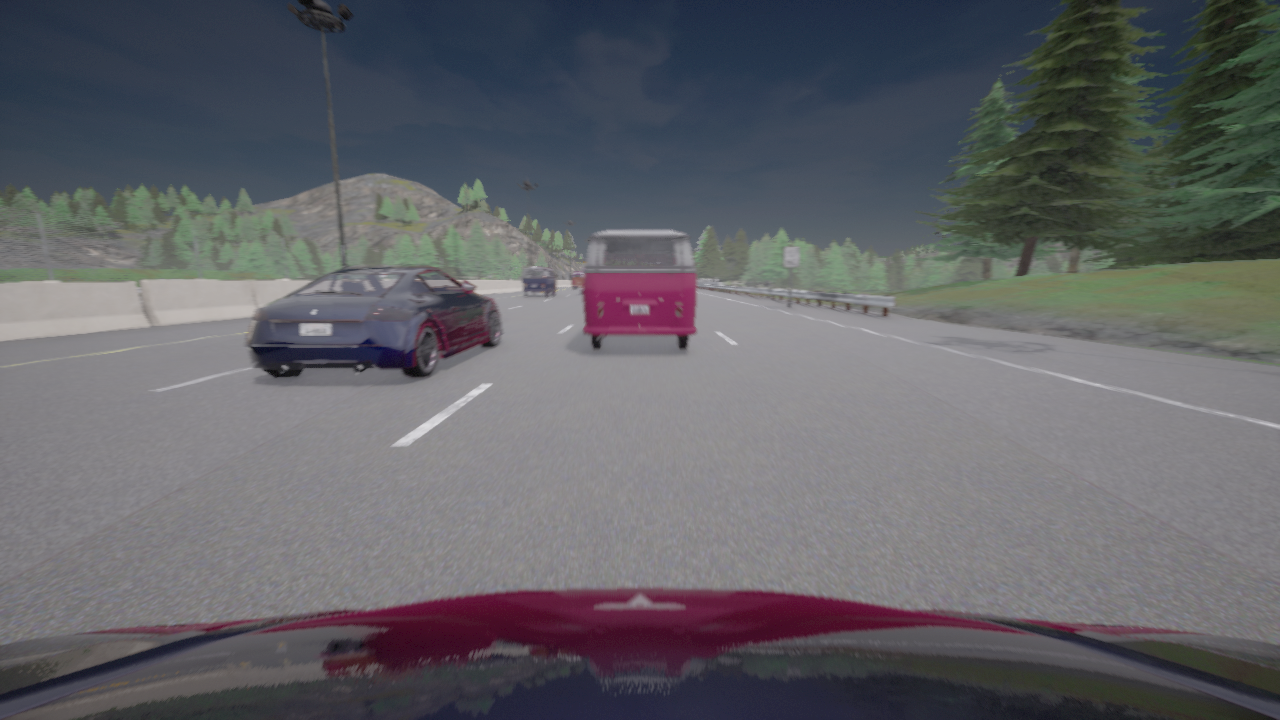cyclist: (0, 588, 1279, 719), (245, 266, 502, 378), (583, 230, 696, 349), (522, 267, 557, 296), (572, 272, 581, 288), (580, 270, 583, 294)
